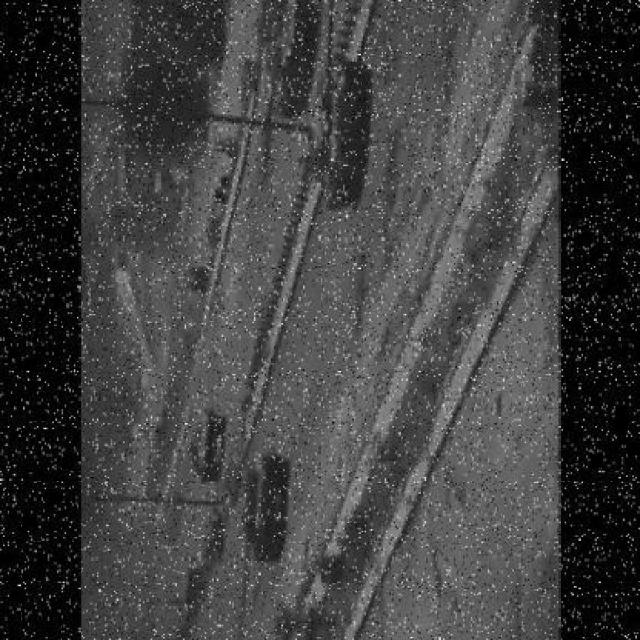Tank: (291, 1, 393, 223), (226, 447, 298, 640), (235, 1, 323, 156), (178, 387, 230, 489)
